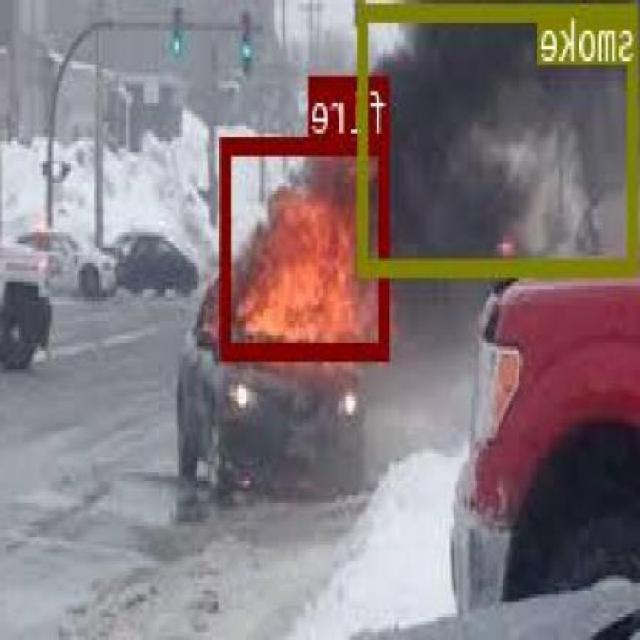Fire: (224, 136, 392, 357)
Smoke: (360, 1, 640, 274)
